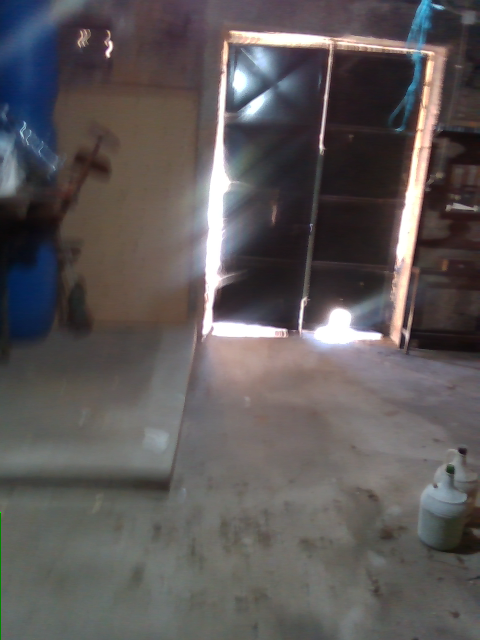closed: (199, 30, 448, 344)
